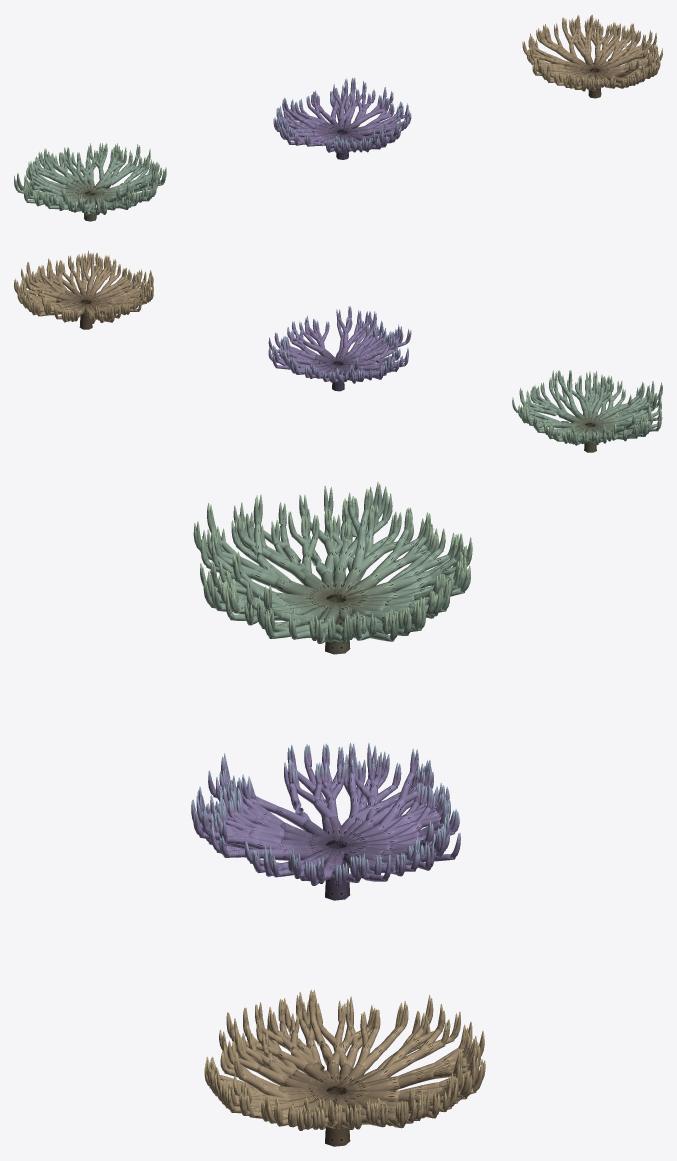
3 renders of one model, top to bottom at view 1: azimuth 30°, elevation 25°; view 2: azimuth 150°, elevation 25°; view 3: azimuth 270°, elevation 25°, orthographic. The views are drawn at different scales.
Visible parts, largest first — view 1: table-acropora-0, table-acropora-2, table-acropora-1; view 2: table-acropora-0, table-acropora-2, table-acropora-1; view 3: table-acropora-0, table-acropora-2, table-acropora-1.
Boxes of the visible parts, <box> form: table-acropora-0: <box>14,143,166,221</box>; table-acropora-2: <box>522,14,662,98</box>; table-acropora-1: <box>273,77,411,159</box>; table-acropora-0: <box>512,370,662,452</box>; table-acropora-2: <box>14,250,153,329</box>; table-acropora-1: <box>268,306,411,391</box>; table-acropora-0: <box>193,481,472,654</box>; table-acropora-2: <box>204,989,485,1146</box>; table-acropora-1: <box>191,742,460,900</box>.
Size of the model in its own units: 1.51 by 0.1277 by 0.3033.
Materials: 1 (1 with a texture image).
